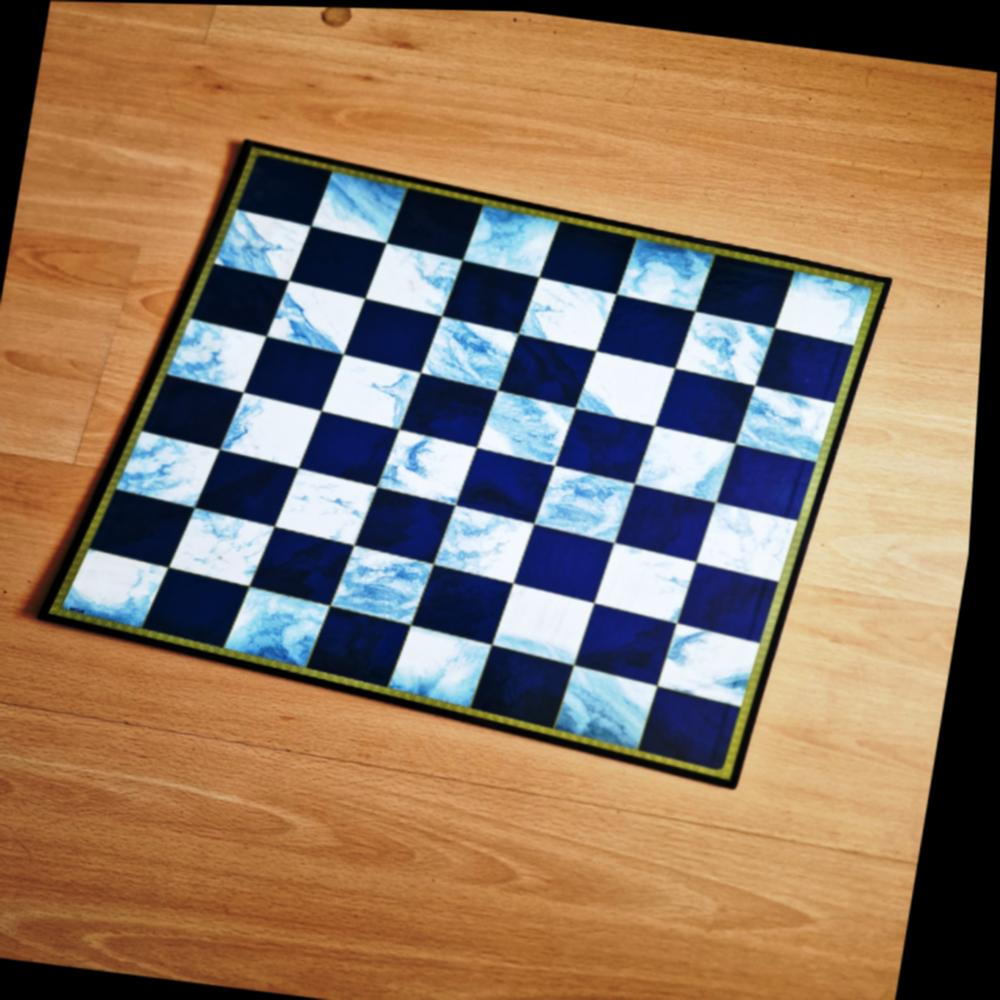chessfield: (504, 580, 610, 664), (398, 624, 505, 707), (236, 583, 341, 667), (133, 428, 239, 511), (565, 663, 668, 748), (181, 507, 286, 588), (75, 544, 178, 626), (673, 622, 777, 703), (447, 506, 552, 586), (281, 466, 385, 546), (343, 543, 447, 623), (607, 543, 708, 624), (584, 604, 686, 684), (235, 393, 336, 473), (644, 425, 747, 503), (156, 567, 259, 645), (421, 565, 522, 644), (262, 526, 364, 604), (649, 684, 748, 764), (540, 462, 642, 539), (481, 646, 580, 725), (524, 525, 624, 603), (176, 313, 276, 391), (708, 497, 807, 575), (692, 562, 792, 639), (385, 428, 486, 504), (581, 346, 680, 423), (626, 481, 726, 557), (318, 608, 417, 684), (212, 454, 312, 529), (329, 350, 425, 428), (276, 280, 374, 356), (424, 313, 523, 388), (525, 278, 621, 355), (223, 209, 320, 285), (484, 387, 582, 462), (685, 311, 784, 385), (154, 377, 254, 450), (744, 379, 840, 455), (368, 491, 465, 566), (111, 493, 209, 567), (465, 446, 563, 519), (662, 364, 758, 438), (622, 236, 718, 310), (308, 410, 405, 483), (563, 409, 660, 482), (250, 338, 348, 410), (314, 170, 409, 244), (375, 246, 470, 320), (505, 333, 602, 405), (467, 202, 561, 276), (605, 292, 700, 365), (352, 298, 446, 371), (408, 375, 502, 448), (295, 228, 393, 298), (782, 269, 872, 343), (395, 189, 490, 259), (728, 444, 820, 516), (766, 325, 859, 396), (452, 260, 544, 331), (701, 256, 794, 325), (239, 155, 330, 225), (201, 266, 290, 337), (544, 221, 634, 290)
